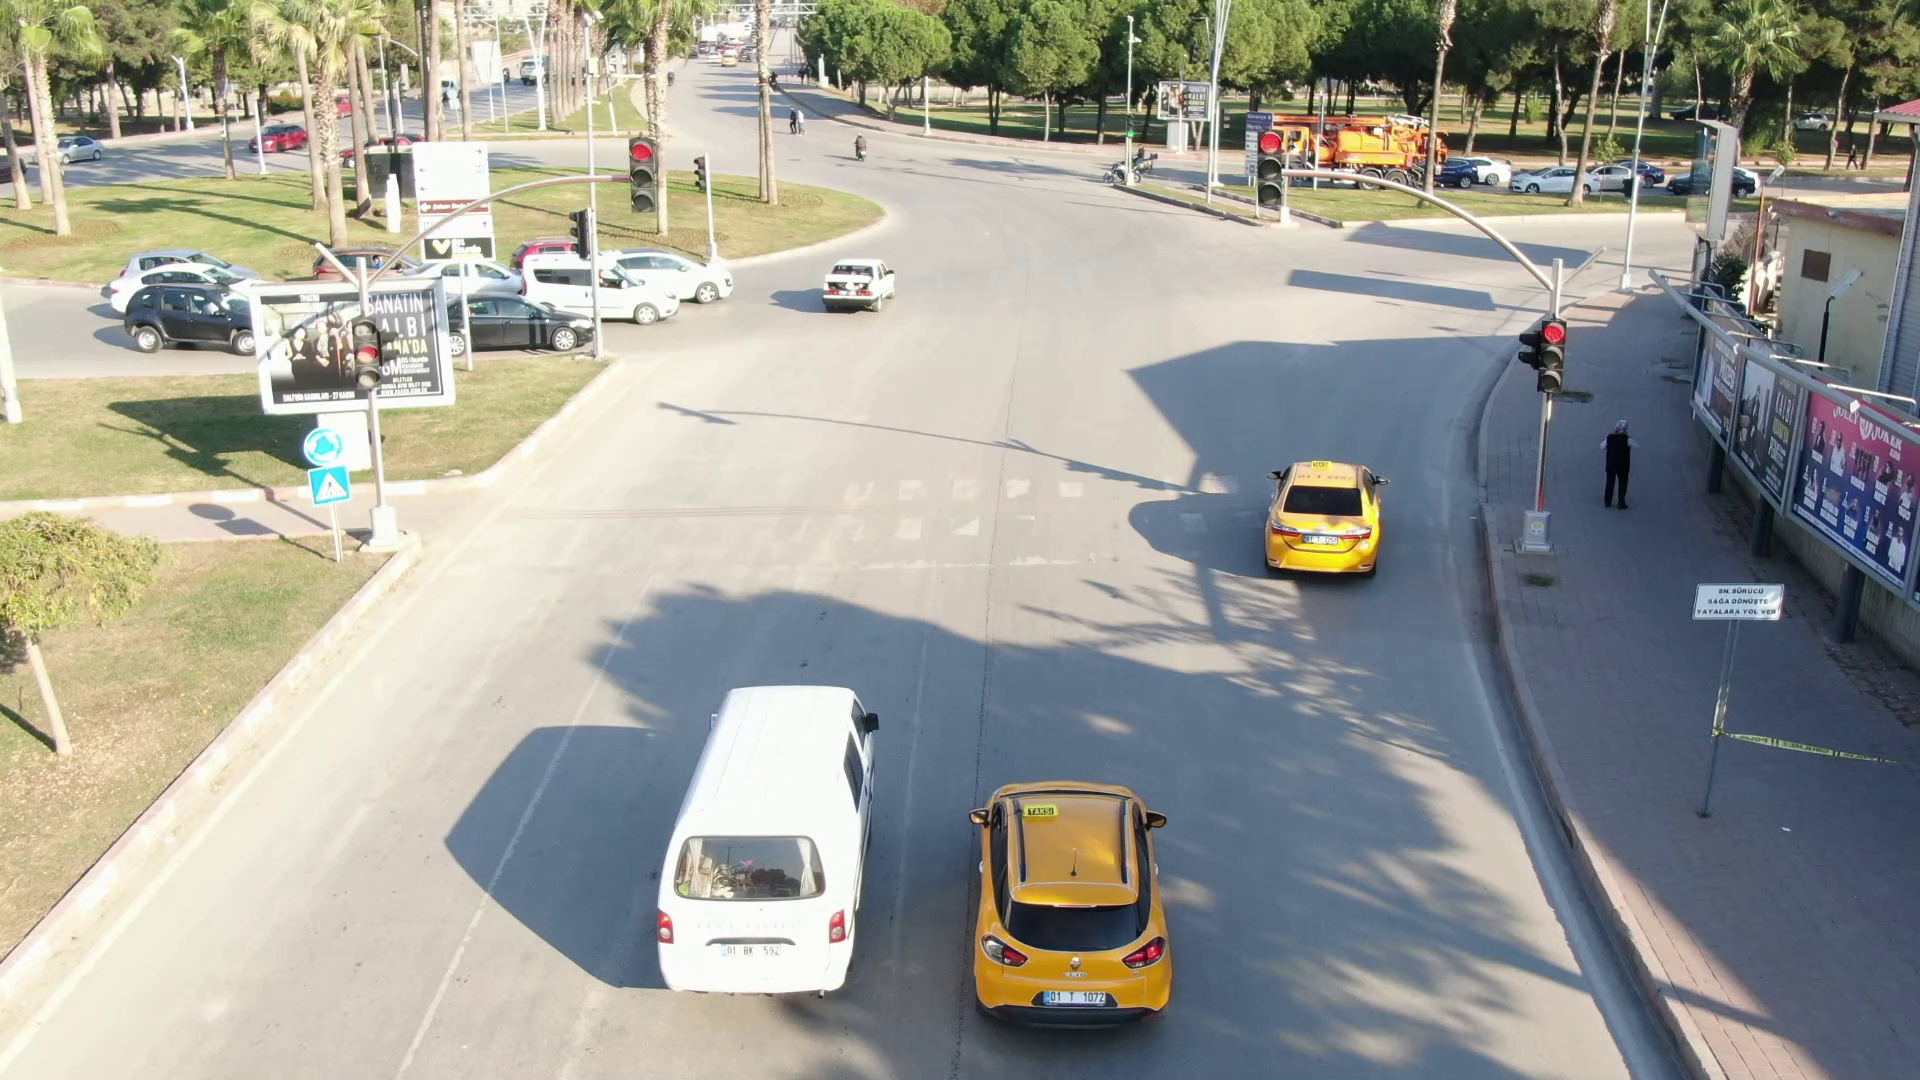car: (647, 665, 888, 1014), (945, 761, 1200, 1039), (1227, 451, 1398, 596), (510, 247, 686, 323), (123, 276, 259, 357), (439, 290, 604, 353), (598, 245, 749, 310), (810, 249, 908, 314)
person: (1590, 396, 1641, 521)
